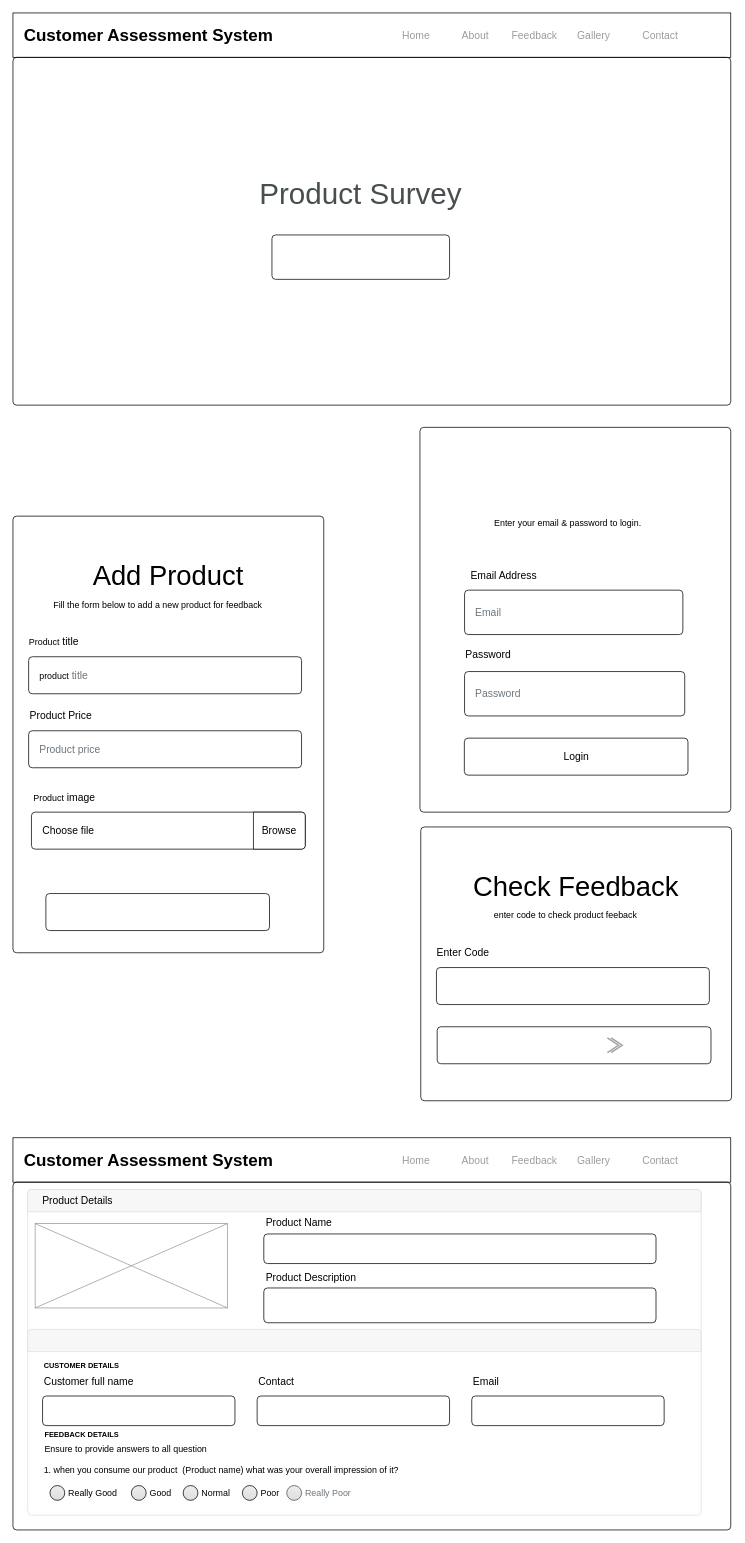
Some shapes in this 745 by 1543 pixel diagram are drawn without their labels. The box of each missing label's shape, as (x1, y1, x2, y2) in pixels:
Enter Feedback Details: (27, 1329, 701, 1352)
Enter product code: (436, 967, 709, 1005)
Login to Your Account: (419, 427, 731, 812)
Proceed: (436, 1026, 711, 1064)
Submit: (45, 893, 270, 931)
Tell us what you think: (271, 234, 450, 279)
